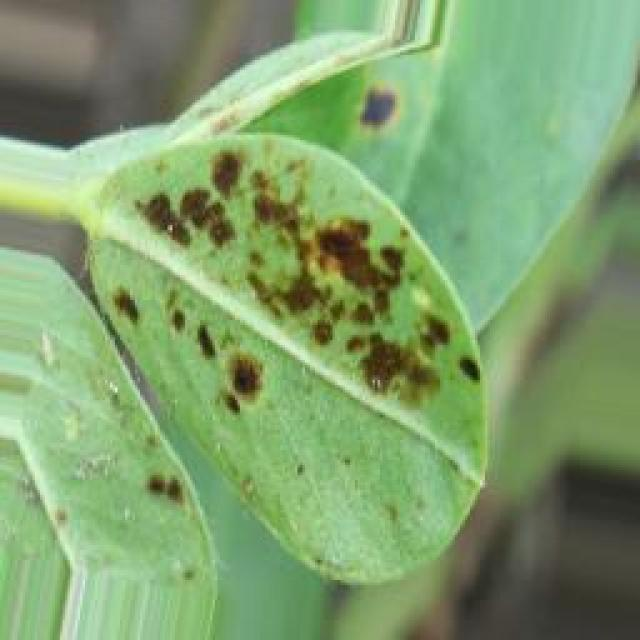Whitefly: (19, 41, 478, 626)
